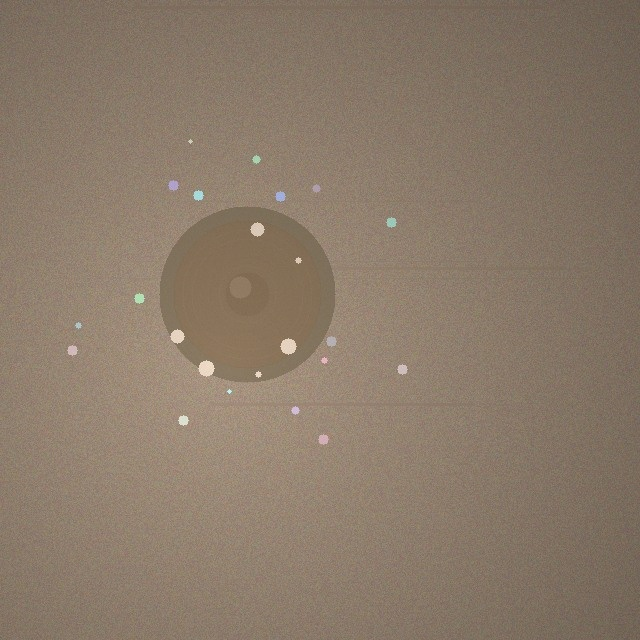overburn: (159, 206, 335, 382)
